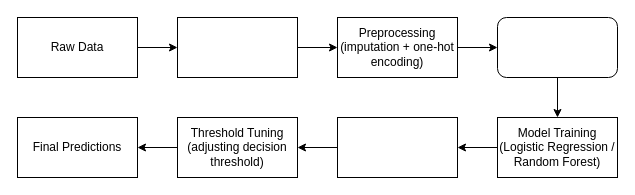
Image size: 635x195. Some labels were removed from this diagram. The centre of each missing label's shape, as x and y in pixels:
Data Cleaning (removing invalid rows, encoding): the point at 237,47
Model Evaluation (ROC AUC, precision, recall): the point at 397,147
Train/Test Split: the point at 557,47
